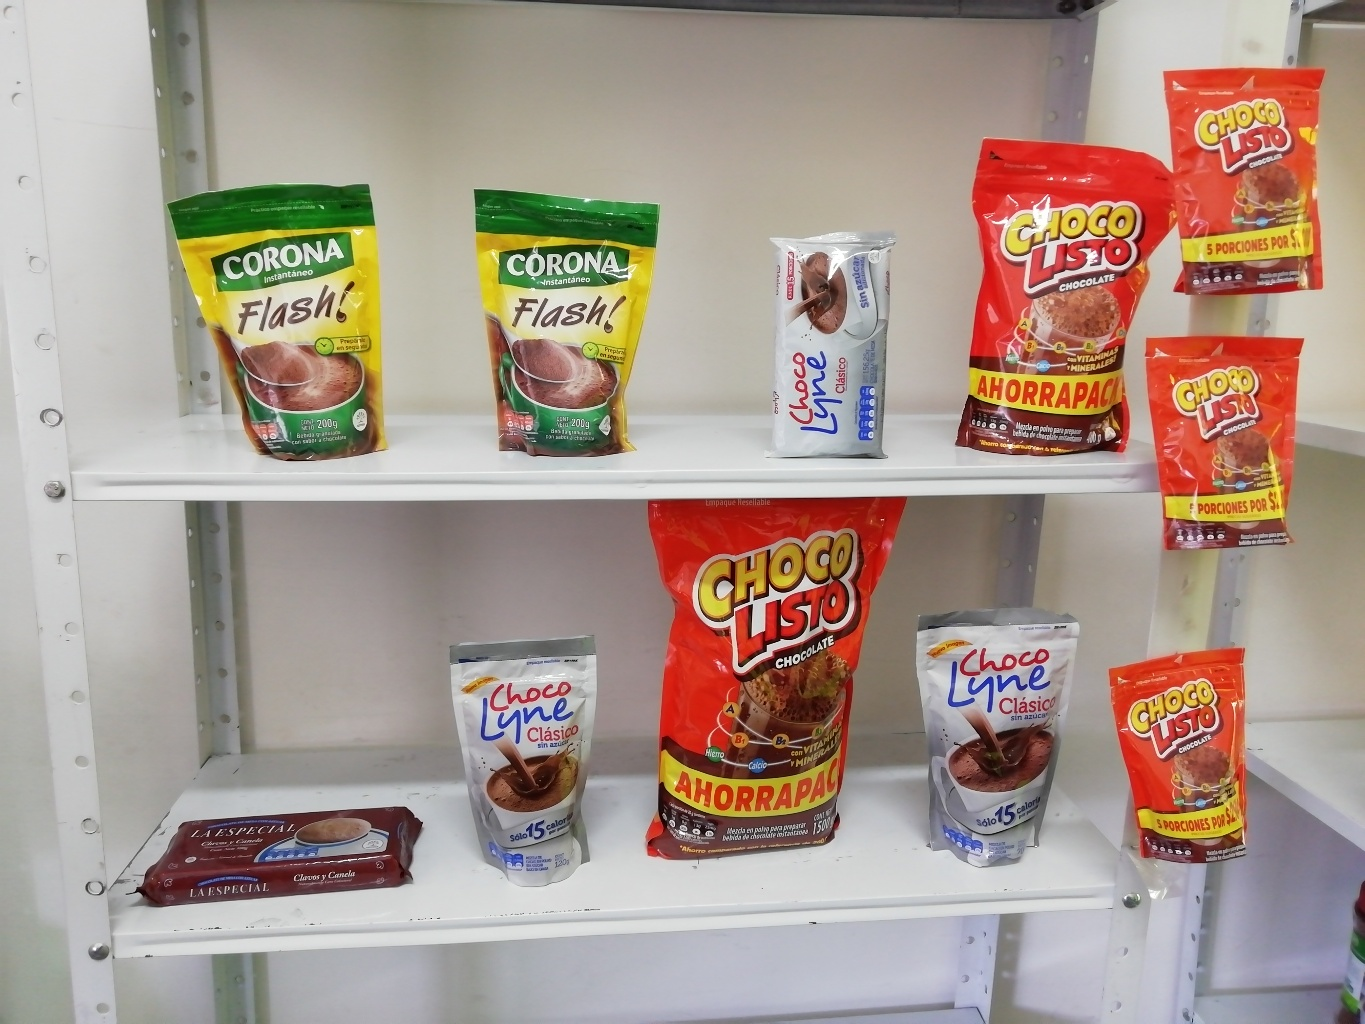COL0170103DYP1,500: (645, 485, 921, 900)
COL0170103DYP10000: (1157, 61, 1340, 296)
COL0170103DYP40000: (972, 137, 1169, 458)
